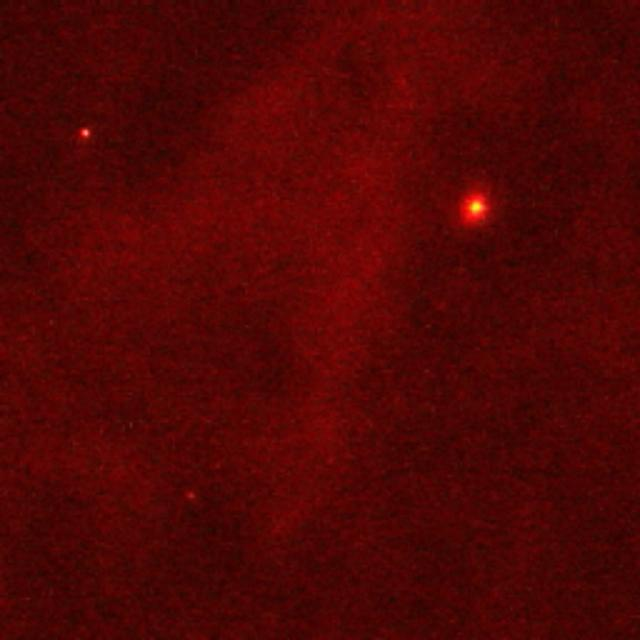Fragment: (468, 198, 487, 216), (80, 128, 92, 140)
